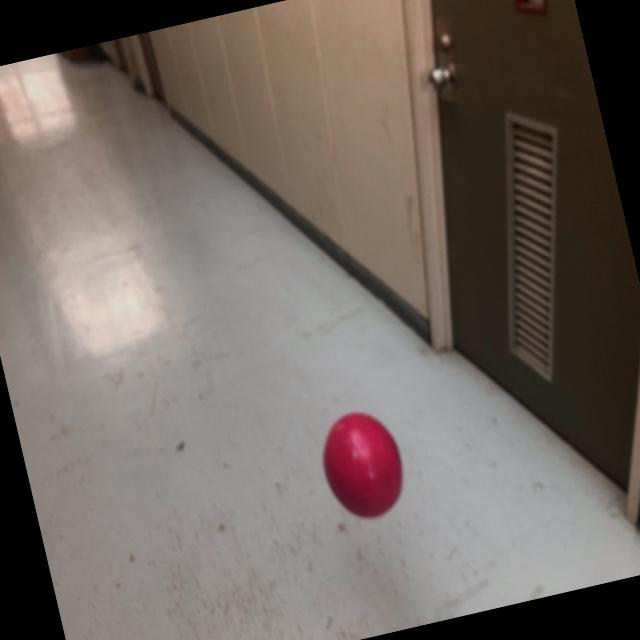red_ball: (313, 402, 414, 524)
